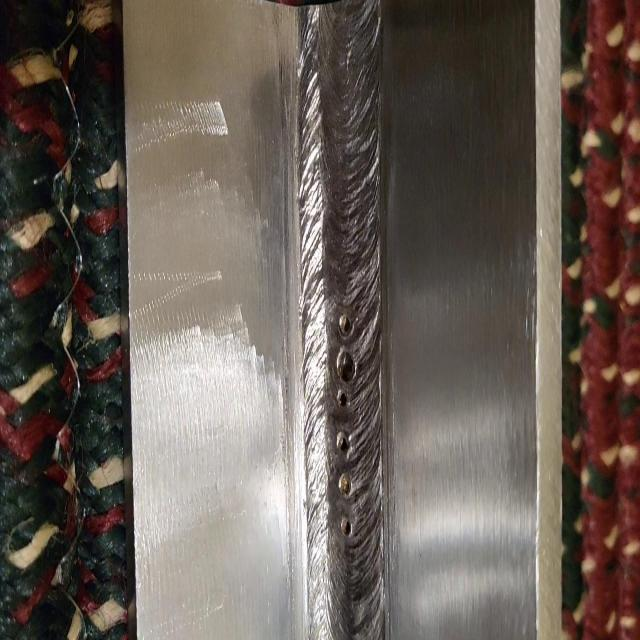Welding Line: (303, 15, 393, 640)
Workpiece: (126, 2, 558, 640)
porosity: (336, 314, 358, 536)
